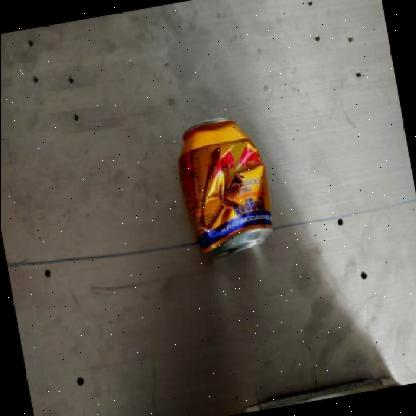Can: (176, 118, 270, 260)
